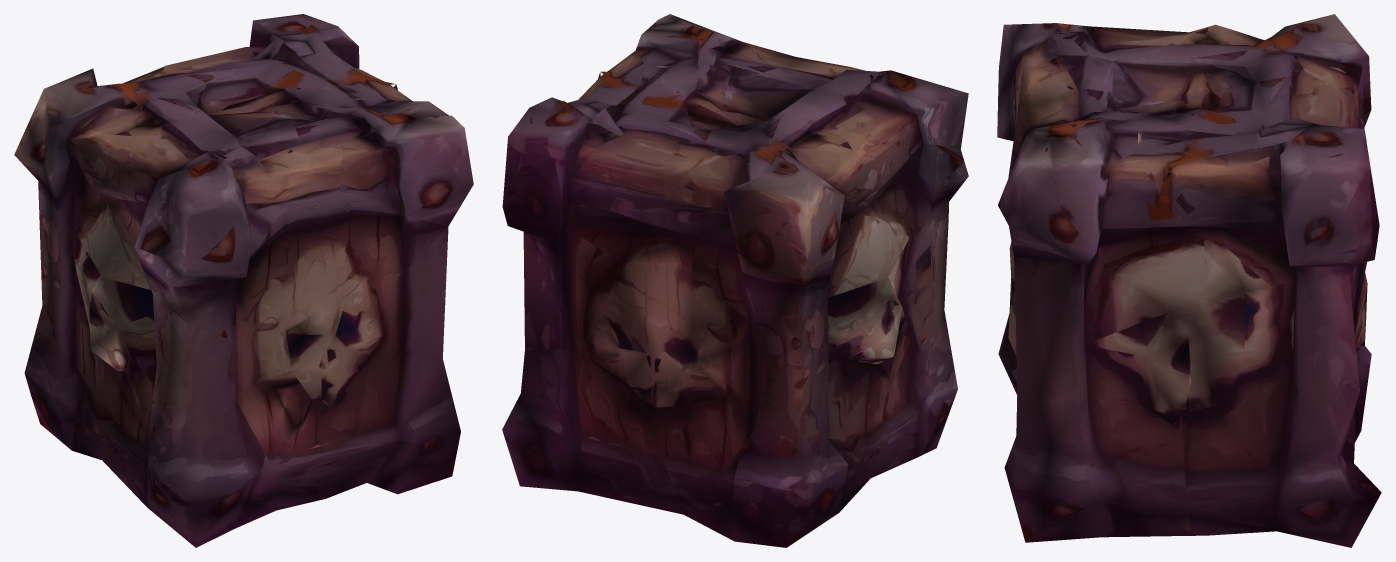
Rendered from crate.glb.
The picture shows the model from 3 angles, left to right: view 1: azimuth 30°, elevation 25°; view 2: azimuth 150°, elevation 25°; view 3: azimuth 270°, elevation 25°; orthographic projection. The views are drawn at different scales.
Visible parts, largest first — view 1: tripo_node_62ce8c5b-f8ae-4835-9b99-726d1107dca8; view 2: tripo_node_62ce8c5b-f8ae-4835-9b99-726d1107dca8; view 3: tripo_node_62ce8c5b-f8ae-4835-9b99-726d1107dca8.
Part boxes in pixels (x1,y1,x2,y2): tripo_node_62ce8c5b-f8ae-4835-9b99-726d1107dca8: [14, 14, 473, 547]; tripo_node_62ce8c5b-f8ae-4835-9b99-726d1107dca8: [502, 14, 968, 547]; tripo_node_62ce8c5b-f8ae-4835-9b99-726d1107dca8: [997, 14, 1381, 547].
Size of the model in its own units: 0.8878 by 0.9908 by 0.8402.
1 material, 1 textured.
